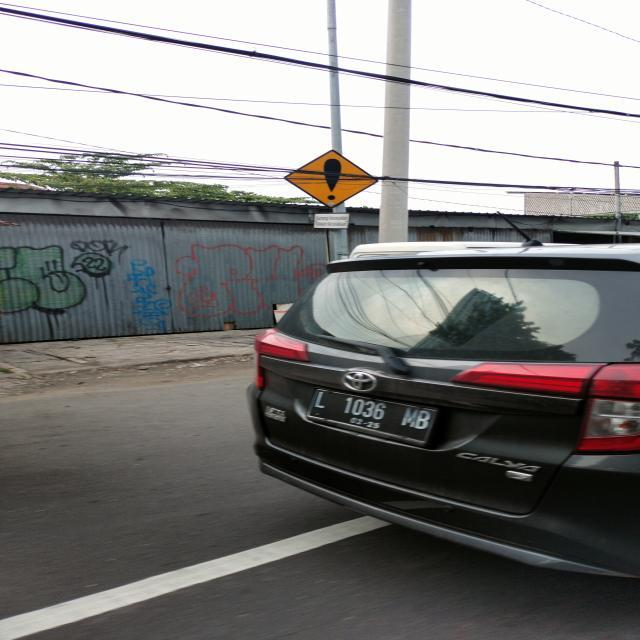Hati-Hati: (284, 149, 383, 211)
